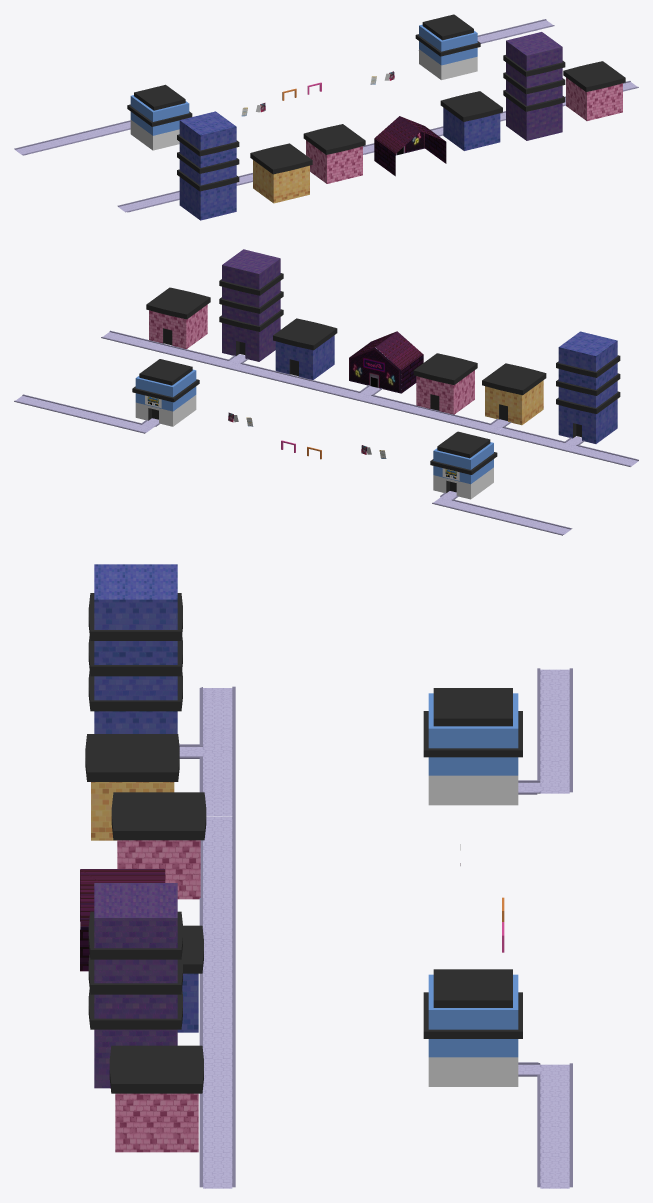
Rendered from Decoracion Exterior.fbx.
3 renders of one model, top to bottom at view 1: azimuth 30°, elevation 25°; view 2: azimuth 150°, elevation 25°; view 3: azimuth 270°, elevation 25°, orthographic. The views are drawn at different scales.
Parts seen in each view (by area): view 1: Edificio alto azul, Edificio alto morado, Casa Decor Dilemma, Casa Decor Dilemma 2, Carretera Exterior, Edi peque azul, Edi peque amarillo, Edi peque rosa, Edi peque rosa.001, Disco; view 2: Carretera Exterior, Edificio alto azul, Edificio alto morado, Casa Decor Dilemma, Casa Decor Dilemma 2, Disco, Edi peque azul, Edi peque amarillo, Edi peque rosa, Edi peque rosa.001; view 3: Carretera Exterior, Edificio alto morado, Edificio alto azul, Casa Decor Dilemma, Casa Decor Dilemma 2, Edi peque rosa, Edi peque rosa.001, Edi peque amarillo, Disco, Edi peque azul.
Part boxes in pixels (bbox=[...]): Edificio alto azul: bbox=[177, 111, 239, 220]; Edificio alto morado: bbox=[503, 32, 565, 140]; Casa Decor Dilemma: bbox=[415, 14, 480, 80]; Casa Decor Dilemma 2: bbox=[127, 84, 192, 150]; Carretera Exterior: bbox=[14, 19, 638, 212]; Edi peque azul: bbox=[440, 91, 502, 150]; Edi peque amarillo: bbox=[250, 143, 312, 203]; Edi peque rosa: bbox=[563, 61, 625, 120]; Edi peque rosa.001: bbox=[303, 124, 365, 183]; Disco: bbox=[374, 116, 446, 176]; Carretera Exterior: bbox=[14, 330, 638, 535]; Edificio alto azul: bbox=[556, 331, 620, 443]; Edificio alto morado: bbox=[219, 249, 283, 361]; Casa Decor Dilemma: bbox=[132, 359, 199, 426]; Casa Decor Dilemma 2: bbox=[430, 431, 497, 499]; Disco: bbox=[349, 331, 423, 393]; Edi peque azul: bbox=[273, 318, 337, 379]; Edi peque amarillo: bbox=[482, 363, 546, 425]; Edi peque rosa: bbox=[146, 287, 210, 348]; Edi peque rosa.001: bbox=[413, 353, 477, 414]; Carretera Exterior: bbox=[179, 668, 572, 1188]; Edificio alto morado: bbox=[88, 883, 182, 1088]; Edificio alto azul: bbox=[88, 564, 182, 733]; Casa Decor Dilemma: bbox=[423, 969, 522, 1086]; Casa Decor Dilemma 2: bbox=[423, 688, 522, 805]; Edi peque rosa: bbox=[109, 1045, 203, 1152]; Edi peque rosa.001: bbox=[111, 792, 206, 899]; Edi peque amarillo: bbox=[85, 734, 179, 840]; Disco: bbox=[80, 869, 165, 971]; Edi peque azul: bbox=[177, 925, 203, 1032].
Size of the model in its own units: 8492 by 1300 by 3409.
